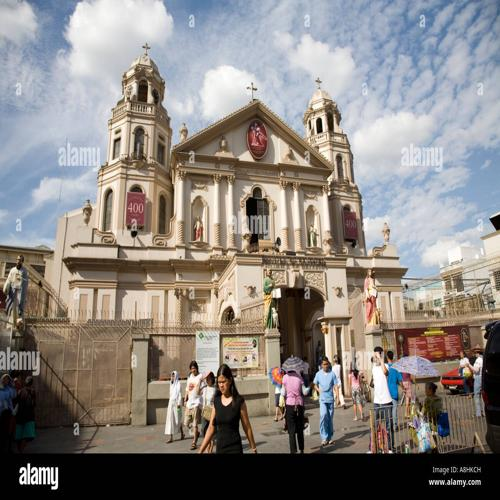Quiapo Church: (47, 35, 385, 436)
